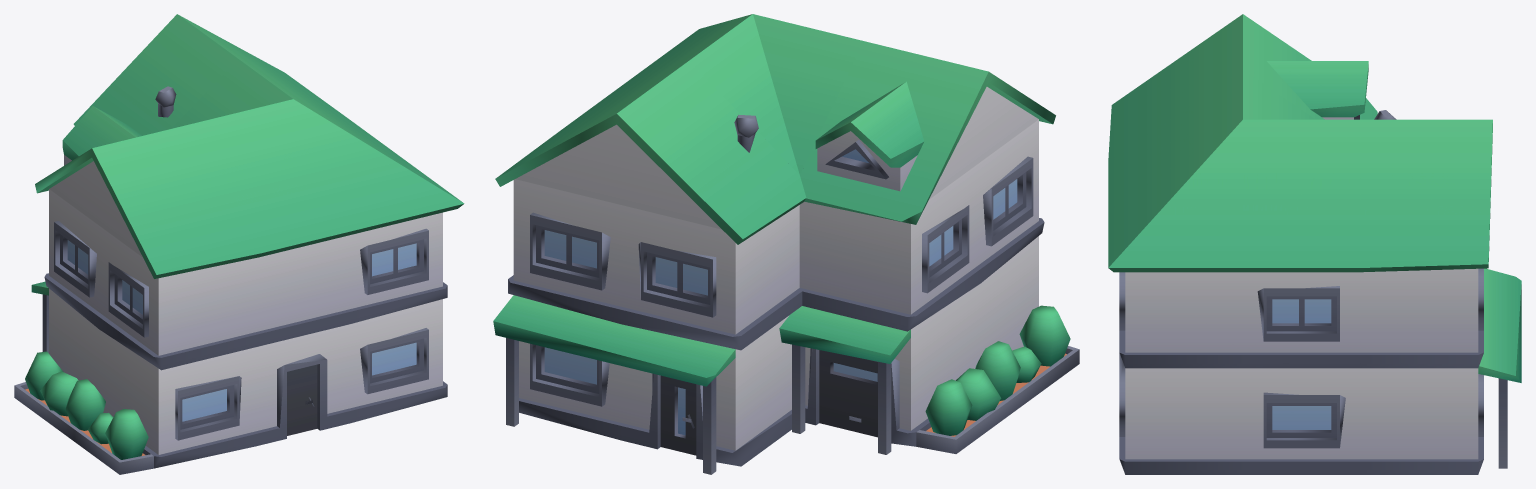
File: 059_city-kit-suburban_building-type-f_card.glb
3 views of the same model, side by side, from view 1: azimuth 30°, elevation 25°; view 2: azimuth 150°, elevation 25°; view 3: azimuth 270°, elevation 25° (orthographic). The views are drawn at different scales.
Parts seen in each view (by area): view 1: building-type-f; view 2: building-type-f; view 3: building-type-f.
Part boxes in pixels (x1,y1,x2,y2): building-type-f: (14,14,464,474); building-type-f: (493,14,1079,474); building-type-f: (1108,14,1521,474).
Size of the model in its own units: 1.43 by 1.14 by 1.41.
Materials: 1 (1 with a texture image).
